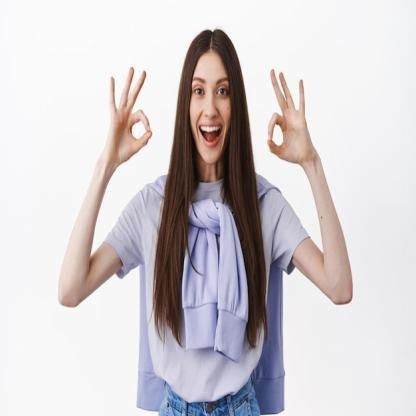ok: (264, 66, 314, 168), (106, 65, 154, 164)
